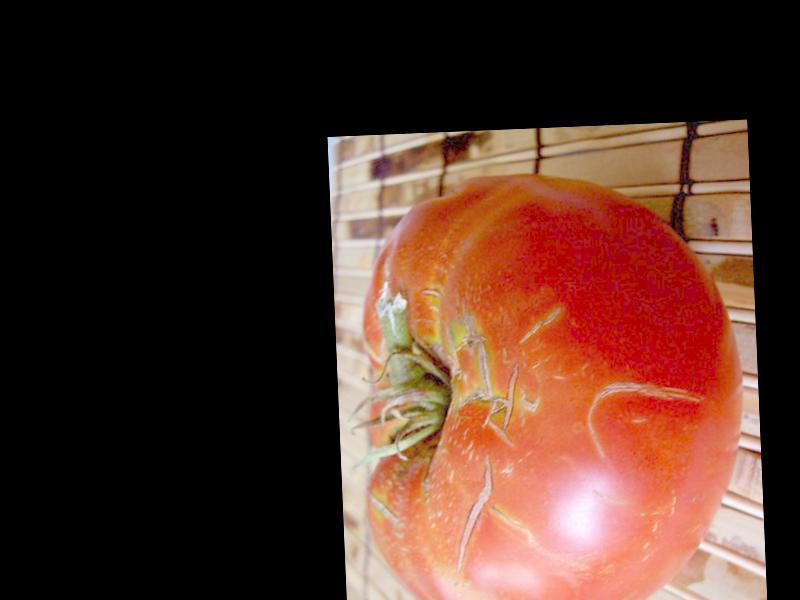Tomato: (352, 165, 746, 600)
